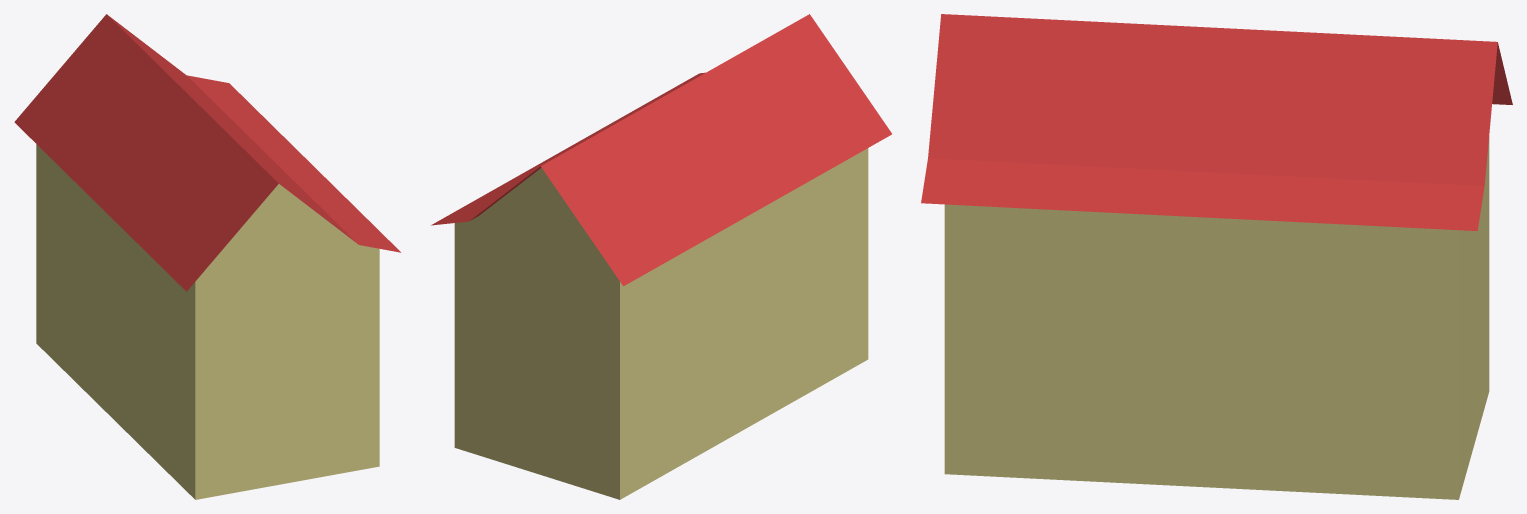
3 renders of one model, left to right at view 1: azimuth 30°, elevation 25°; view 2: azimuth 150°, elevation 25°; view 3: azimuth 270°, elevation 25°, orthographic. The views are drawn at different scales.
Size of the model in its own units: 12.76 by 20.74 by 15.31.
